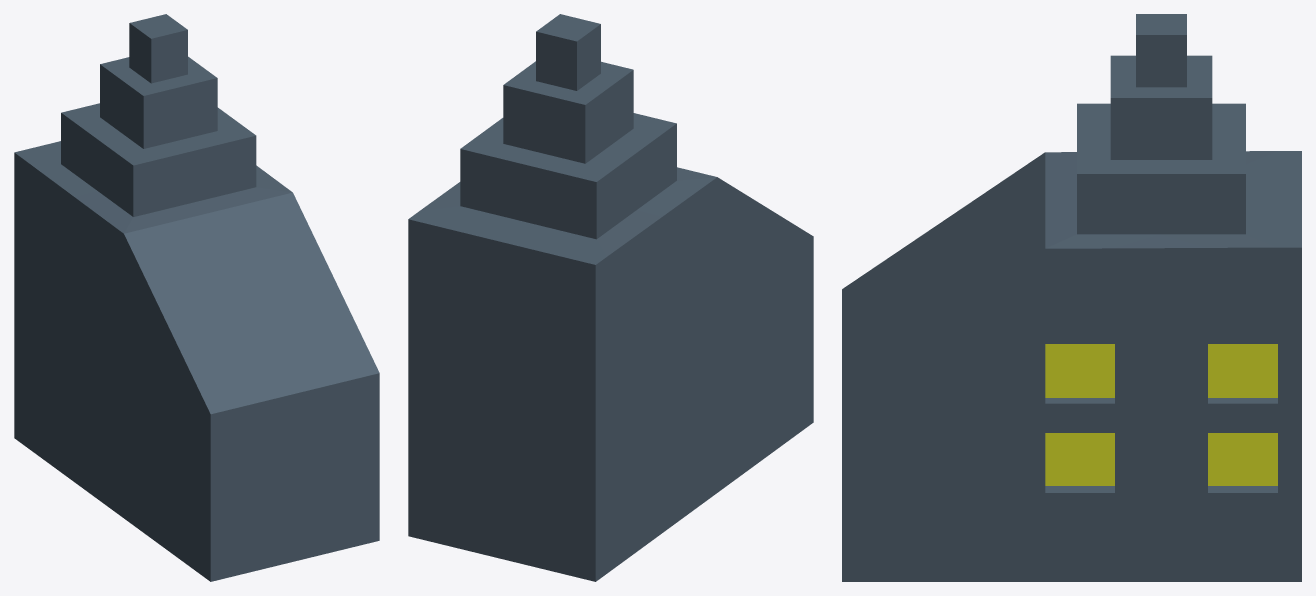
The model's file is Predio_tosco.fbx.
The picture shows the model from 3 angles, left to right: view 1: azimuth 30°, elevation 25°; view 2: azimuth 150°, elevation 25°; view 3: azimuth 270°, elevation 25°; orthographic projection. The views are drawn at different scales.
Parts seen in each view (by area): view 1: Cube; view 2: Cube; view 3: Cube.
Boxes of the visible parts, box(x1,y1,x2,y2) form: Cube: box(14, 14, 379, 581); Cube: box(408, 14, 813, 581); Cube: box(842, 14, 1301, 581).
Bounding box in the file's own units: 635 × 1562 × 1279.
